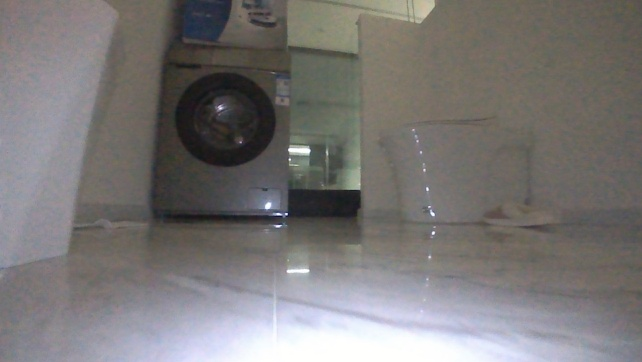shoe: (479, 198, 565, 231)
toilet: (385, 103, 535, 228)
washing_machine: (146, 34, 296, 225)
